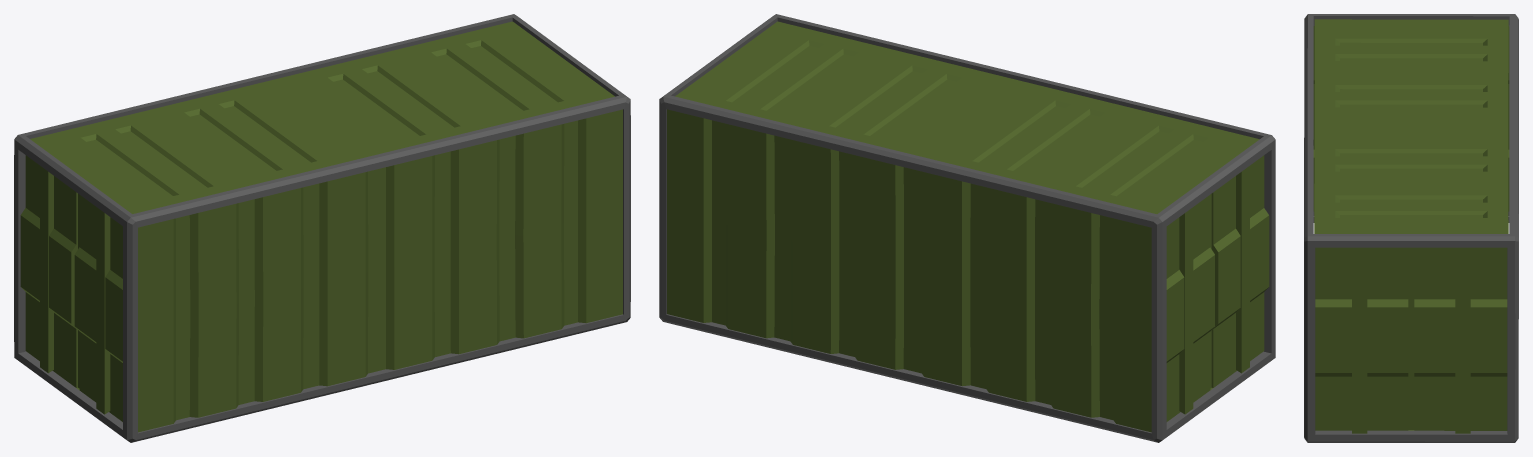
Rendered from container_green.glb.
The picture shows the model from 3 angles, left to right: view 1: azimuth 30°, elevation 25°; view 2: azimuth 150°, elevation 25°; view 3: azimuth 270°, elevation 25°; orthographic projection. The views are drawn at different scales.
Parts seen in each view (by area): view 1: container_green; view 2: container_green; view 3: container_green.
Boxes of the visible parts, <box> form: container_green: <box>14,14,630,442</box>; container_green: <box>659,14,1275,442</box>; container_green: <box>1304,14,1518,442</box>.
Size of the model in its own units: 6.06 by 2.59 by 2.44.
Materials: 1 (1 with a texture image).
